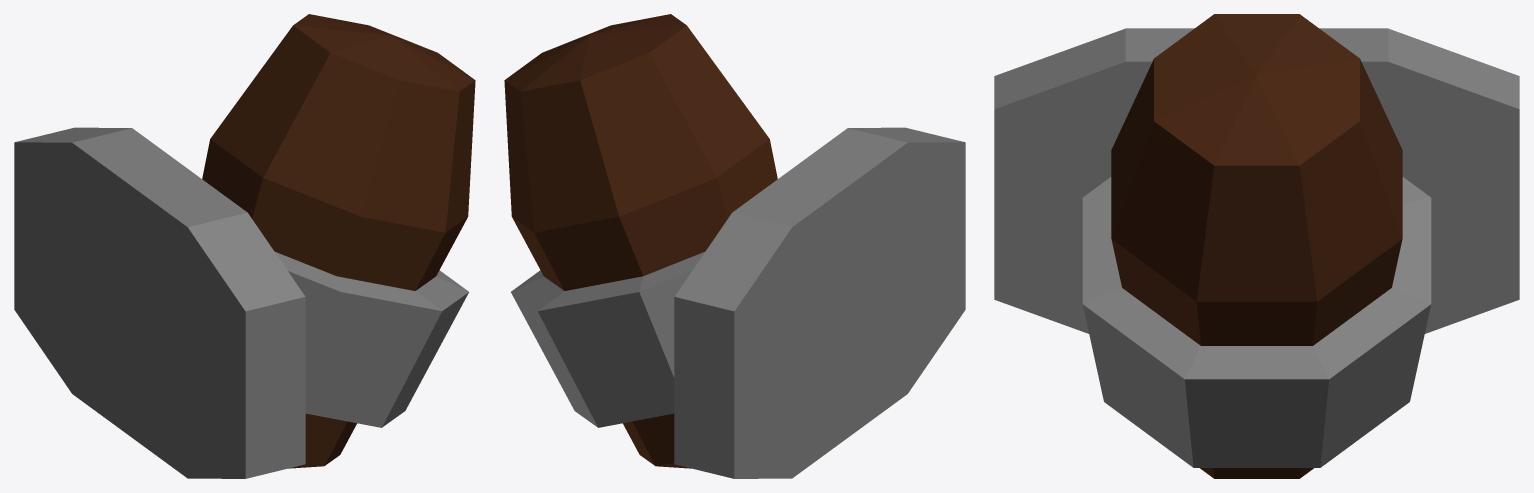
File: Schiavone-Torch.fbx
3 renders of one model, left to right at view 1: azimuth 30°, elevation 25°; view 2: azimuth 150°, elevation 25°; view 3: azimuth 270°, elevation 25°, orthographic. The views are drawn at different scales.
Parts seen in each view (by area): view 1: torch; view 2: torch; view 3: torch.
Part boxes in pixels (x1,y1,x2,y2): torch: (14, 14, 475, 478); torch: (504, 14, 965, 478); torch: (994, 14, 1519, 478).
Size of the model in its own units: 16.07 by 19.69 by 19.45.
